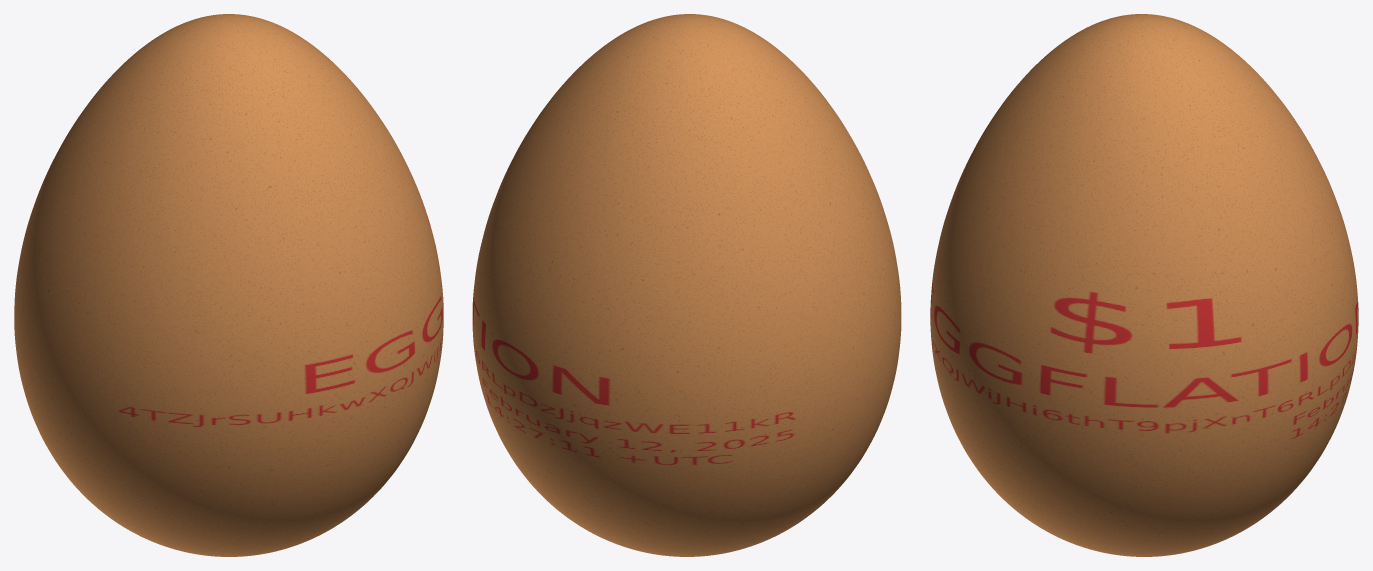
File: egg_model.glb
3 renders of one model, left to right at view 1: azimuth 30°, elevation 25°; view 2: azimuth 150°, elevation 25°; view 3: azimuth 270°, elevation 25°, orthographic.
Visible parts, largest first — view 1: Sphere; view 2: Sphere; view 3: Sphere.
Boxes of the visible parts, left/top/right/bottom form: Sphere: left=14, top=14, right=443, bottom=556; Sphere: left=472, top=14, right=901, bottom=556; Sphere: left=930, top=14, right=1358, bottom=556.
Size of the model in its own units: 0.6332 by 0.8373 by 0.6326.
Materials: 1 (1 with a texture image).
